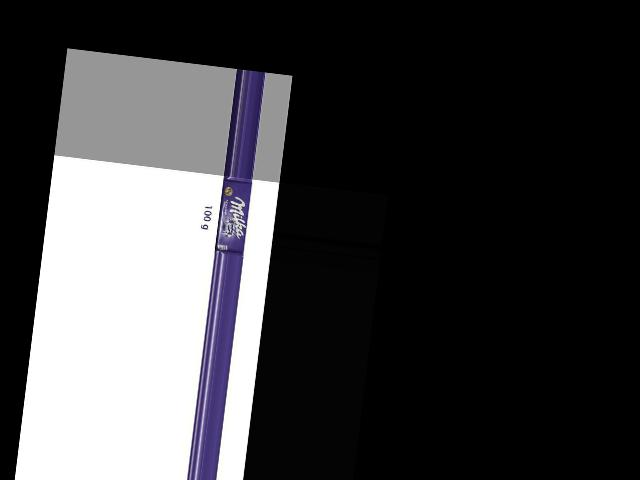chocolate: (208, 177, 252, 257)
